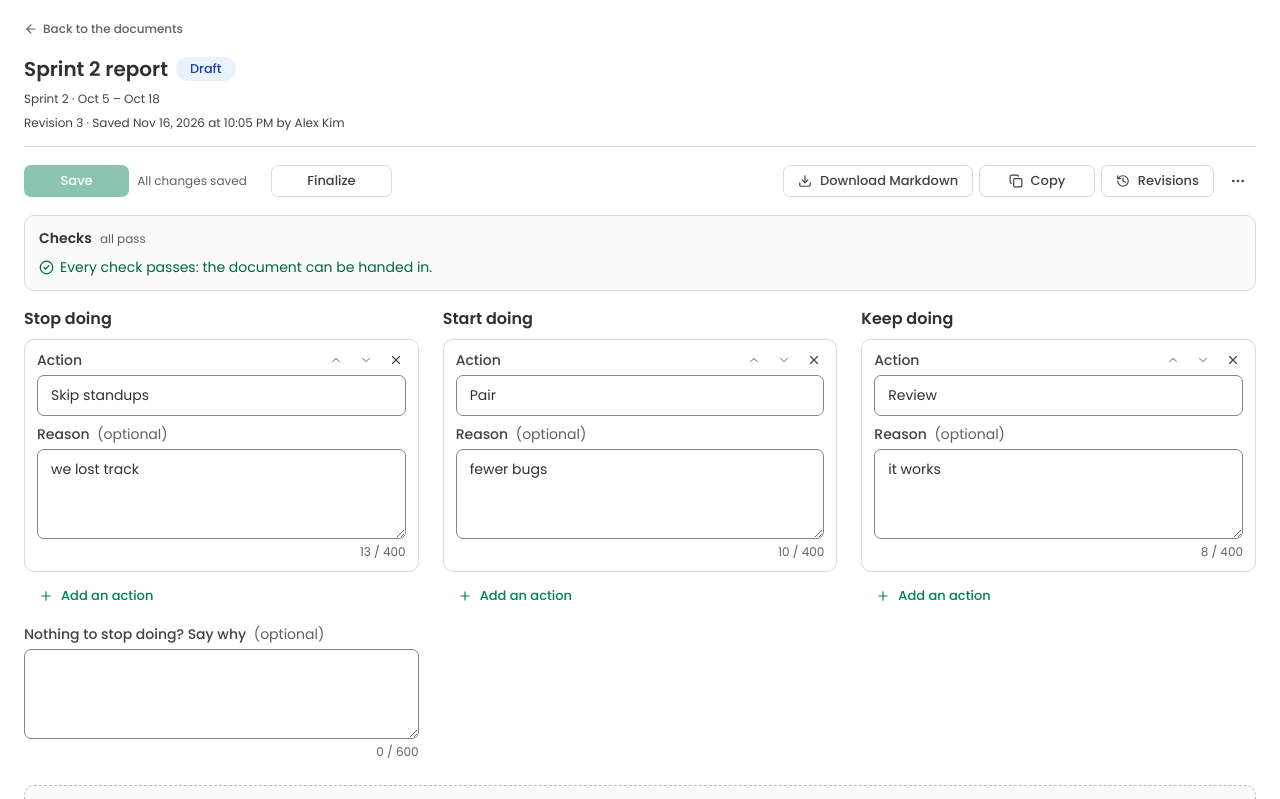
Scenario: DocumentPage: a team member on the head › saves an edit as a revision and says so; Finalize waits for the save
This screenshot has width=1280, height=799.
Type " daily" into the field named "Action 1, Start doing".
click(640, 396); type(" daily")  # box [456,375,824,416]
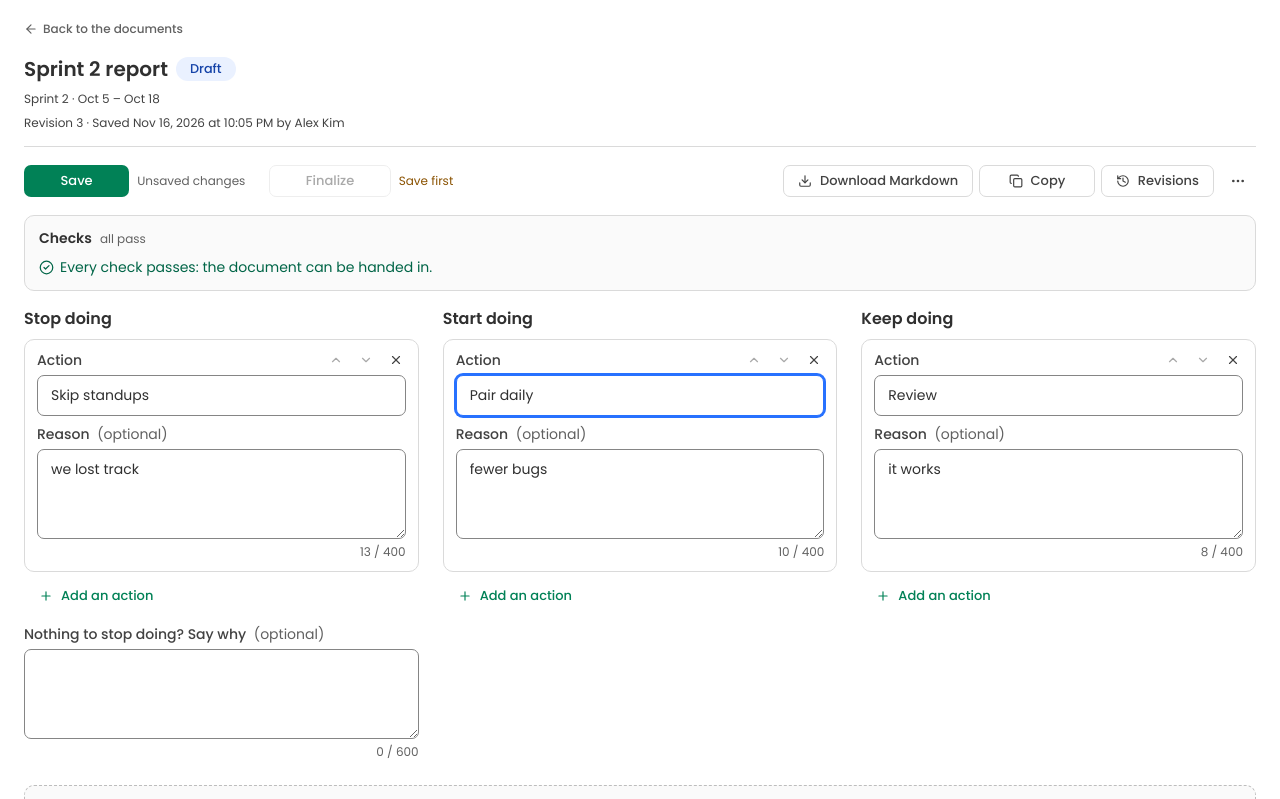
expect the text "Unsaved changes" is shown: met, box [137,175,245,187]
Click the button "Save".
click(77, 181)  # box [24,165,129,197]
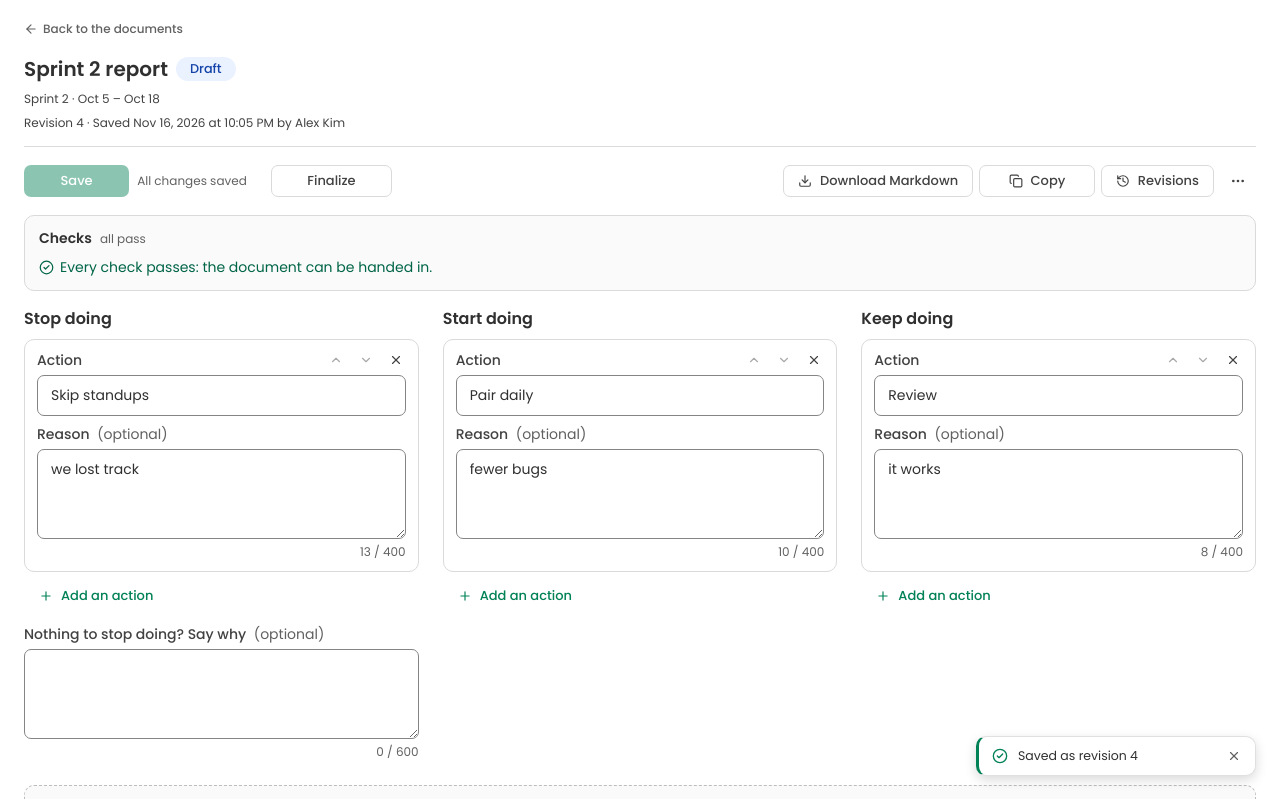
expect the text "Saved as revision 4" is shown: met, box [1018,747,1138,764]
expect the text "All changes saved" is shown: met, box [137,175,247,187]
